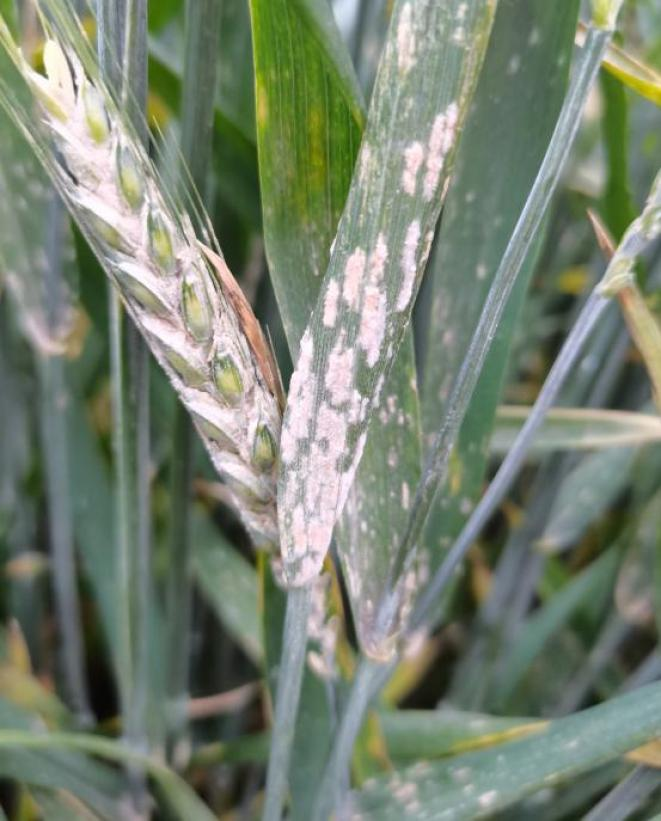Powdery Mildew: (280, 87, 471, 570)
